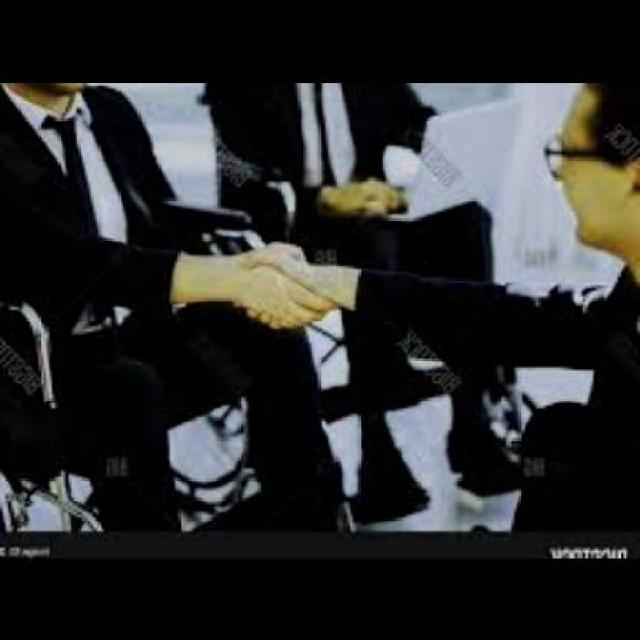wheelchairs: (3, 179, 370, 535)
